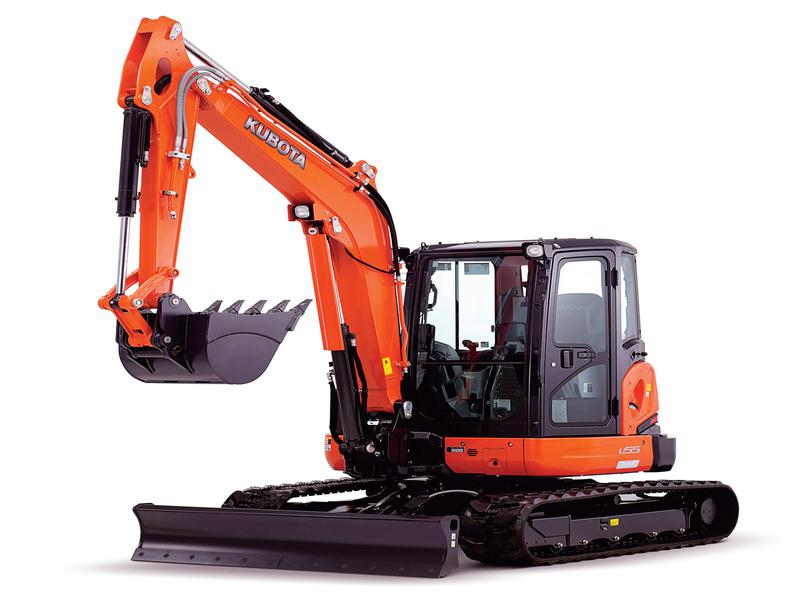shovel: (97, 8, 745, 588)
